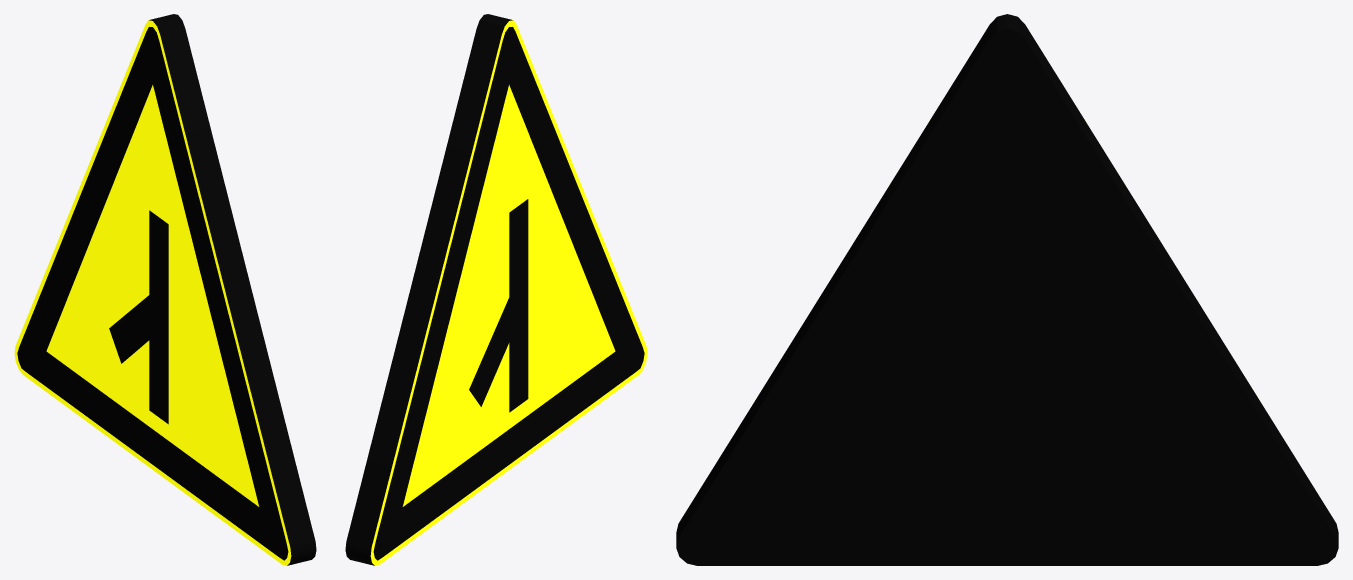
Rendered from Y_Crossing-1.glb.
The picture shows the model from 3 angles, left to right: view 1: azimuth 30°, elevation 25°; view 2: azimuth 150°, elevation 25°; view 3: azimuth 270°, elevation 25°; orthographic projection. The views are drawn at different scales.
Parts seen in each view (by area): view 1: Y_Crossing_1; view 2: Y_Crossing_1; view 3: Y_Crossing_1.
Part boxes in pixels (box(x1,y1,x2,y2)): Y_Crossing_1: box(14, 14, 316, 565); Y_Crossing_1: box(345, 14, 647, 565); Y_Crossing_1: box(676, 14, 1338, 565).
Bounding box in the file's own units: 0.0643 × 1.02 × 1.14.
